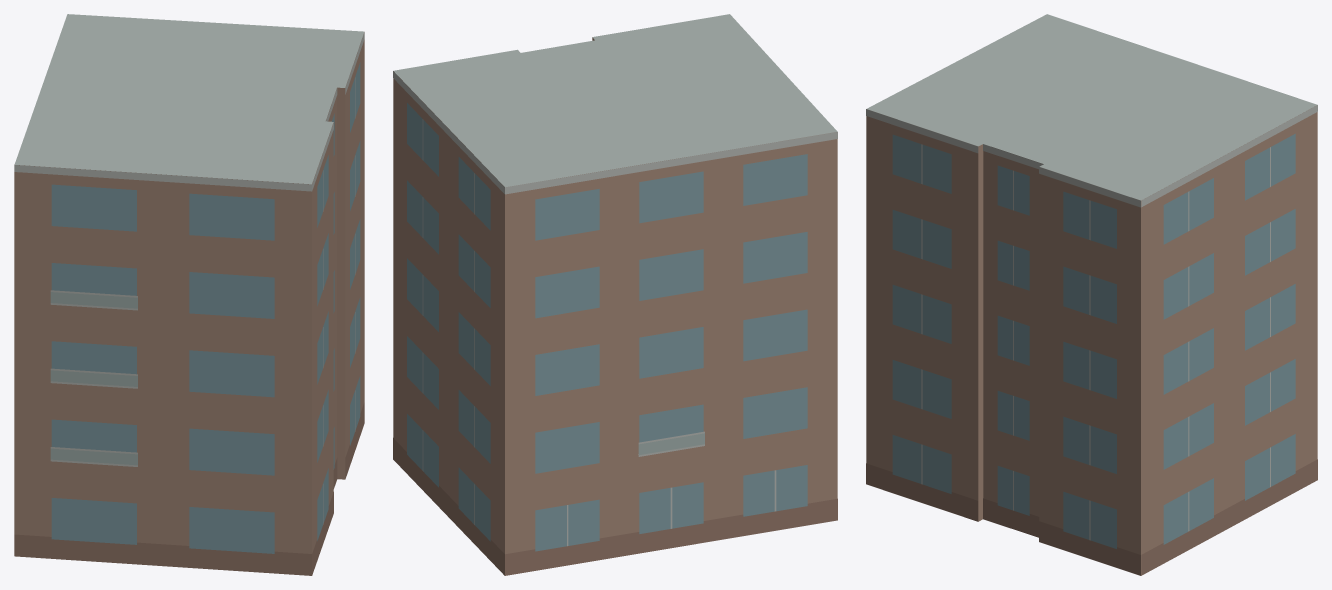
File: survey-upis-32842900.glb
The picture shows the model from 3 angles, left to right: view 1: azimuth 30°, elevation 25°; view 2: azimuth 150°, elevation 25°; view 3: azimuth 270°, elevation 25°; orthographic projection. The views are drawn at different scales.
Visible parts, largest first — view 1: survey-upis-32842900.tmp; view 2: survey-upis-32842900.tmp; view 3: survey-upis-32842900.tmp.
Part boxes in pixels (x1,y1,x2,y2): survey-upis-32842900.tmp: [14, 14, 364, 575]; survey-upis-32842900.tmp: [393, 14, 837, 575]; survey-upis-32842900.tmp: [866, 14, 1317, 575].
Size of the model in its own units: 14.14 by 13.25 by 14.46.
